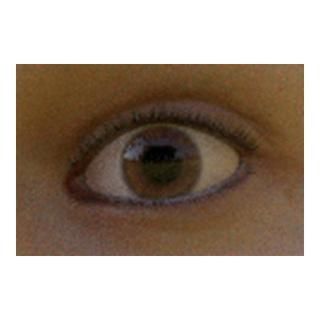pupil: (142, 145, 181, 184)
